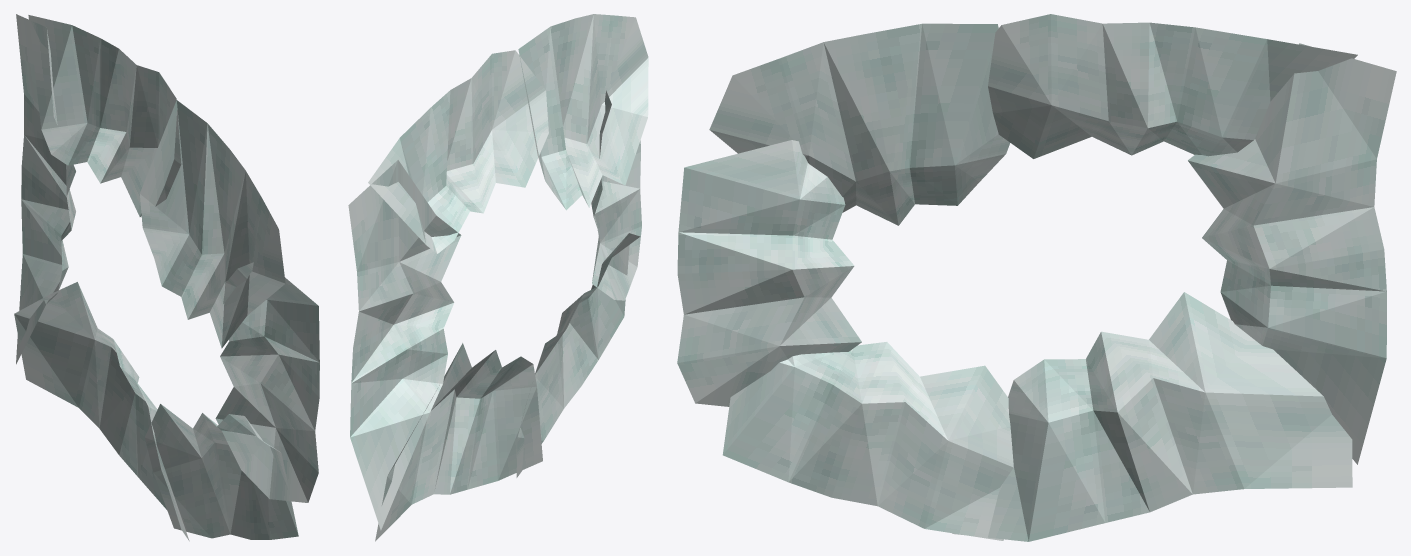
Rendered from level3.obj.
The picture shows the model from 3 angles, left to right: view 1: azimuth 30°, elevation 25°; view 2: azimuth 150°, elevation 25°; view 3: azimuth 270°, elevation 25°; orthographic projection. The views are drawn at different scales.
Visible parts, largest first — view 1: level3; view 2: level3; view 3: level3.
Part boxes in pixels (left/top/right/bottom): level3: left=14, top=14, right=319, bottom=541; level3: left=348, top=14, right=648, bottom=541; level3: left=677, top=14, right=1396, bottom=541.
Size of the model in its own units: 436 by 3817 by 4696.
Materials: 1 (1 with a texture image).
